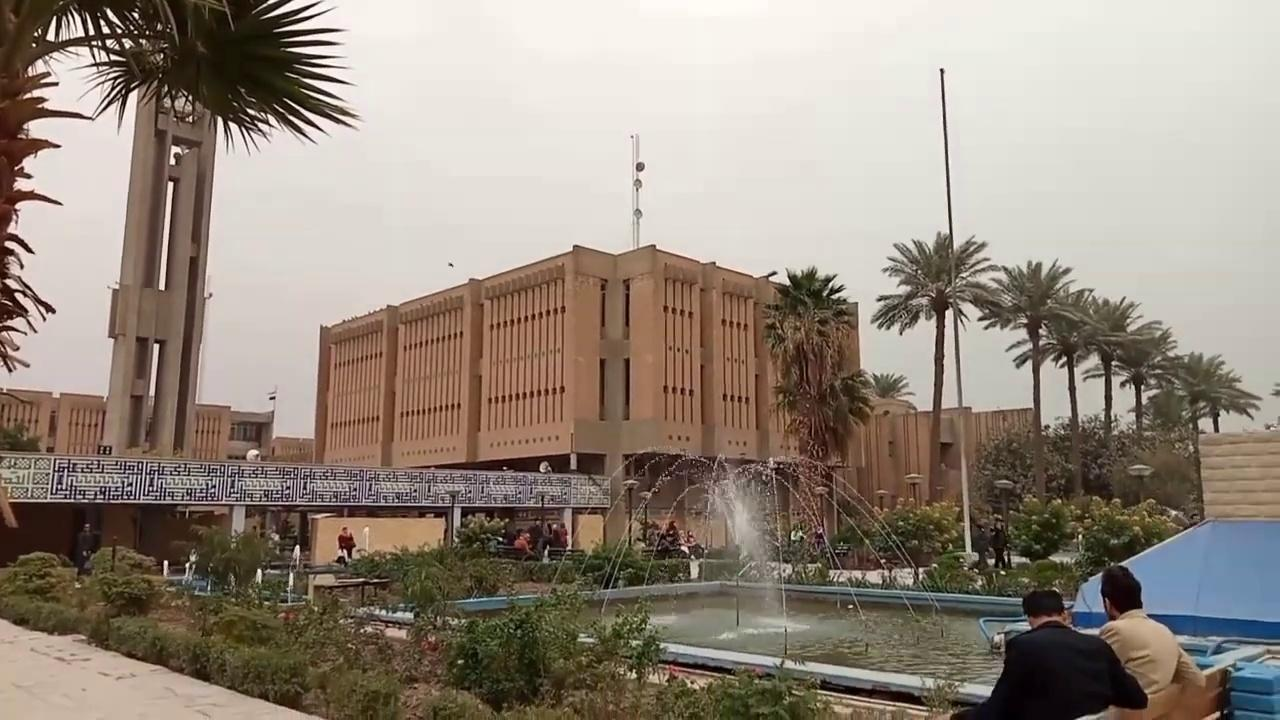fountain: (434, 447, 1271, 714), (585, 447, 954, 652)
person: (949, 588, 1148, 719), (1097, 564, 1209, 719), (74, 522, 101, 577), (970, 522, 990, 572), (989, 518, 1008, 570), (336, 525, 356, 564), (183, 547, 198, 579)
tree: (31, 0, 363, 459), (972, 256, 1260, 510), (29, 0, 363, 156), (0, 0, 95, 375), (870, 230, 997, 505), (759, 264, 874, 554), (975, 257, 1091, 502), (1155, 349, 1262, 520), (1037, 289, 1104, 498), (1077, 293, 1147, 442), (1112, 321, 1178, 452), (1162, 349, 1261, 434), (858, 369, 916, 513), (866, 370, 914, 400)
